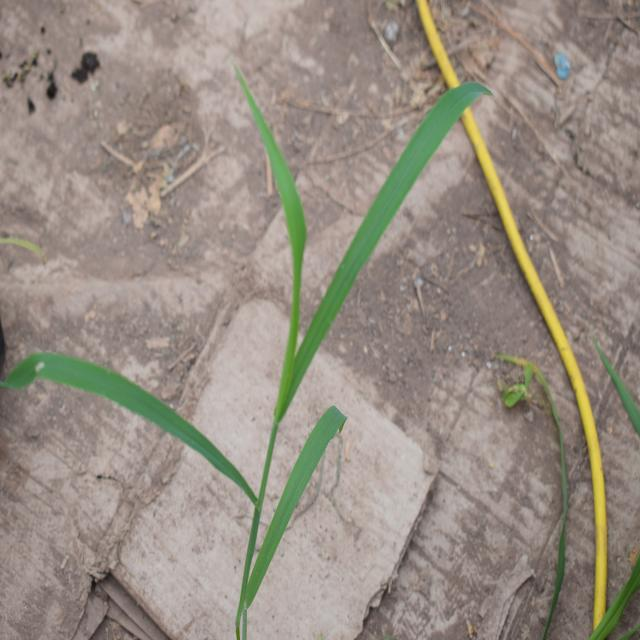crabgrass: (59, 58, 476, 537)
